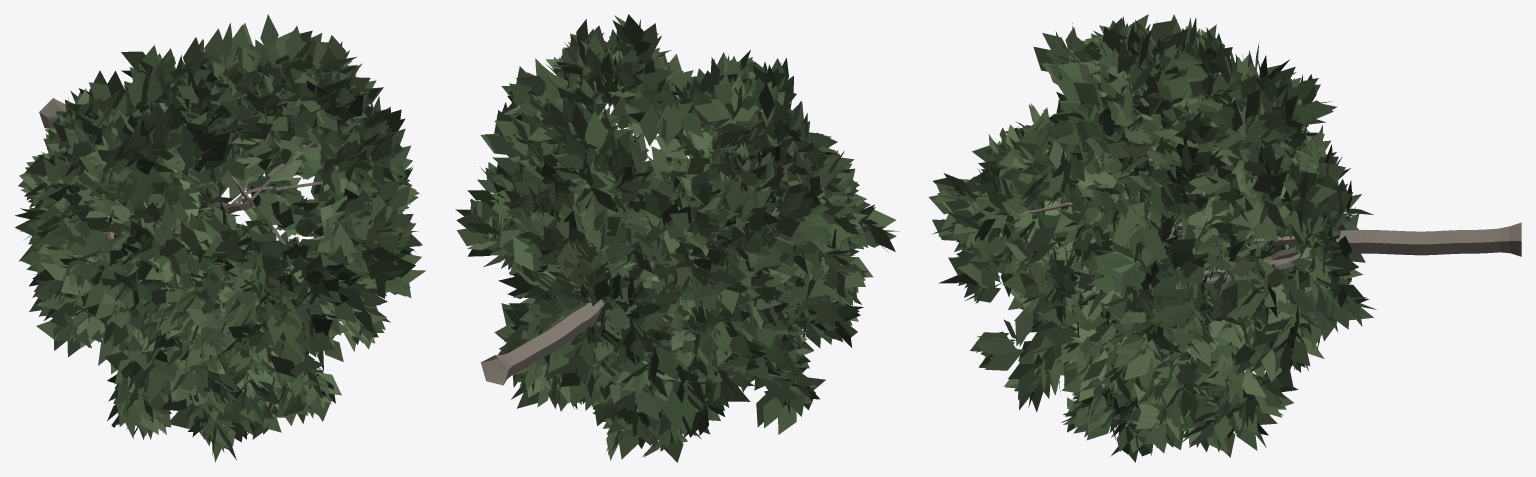
Rendered from tree_mid_05.obj.
3 views of the same model, side by side, from view 1: azimuth 30°, elevation 25°; view 2: azimuth 150°, elevation 25°; view 3: azimuth 270°, elevation 25° (orthographic). The views are drawn at different scales.
Visible parts, largest first — view 1: tree_mid_05; view 2: tree_mid_05; view 3: tree_mid_05.
Boxes of the visible parts, left/top/right/bottom form: tree_mid_05: left=15, top=14, right=425, bottom=462; tree_mid_05: left=455, top=14, right=898, bottom=462; tree_mid_05: left=929, top=14, right=1521, bottom=462.
Size of the model in its own units: 0.7979 by 0.8308 by 1.01.
1 material, 1 textured.
